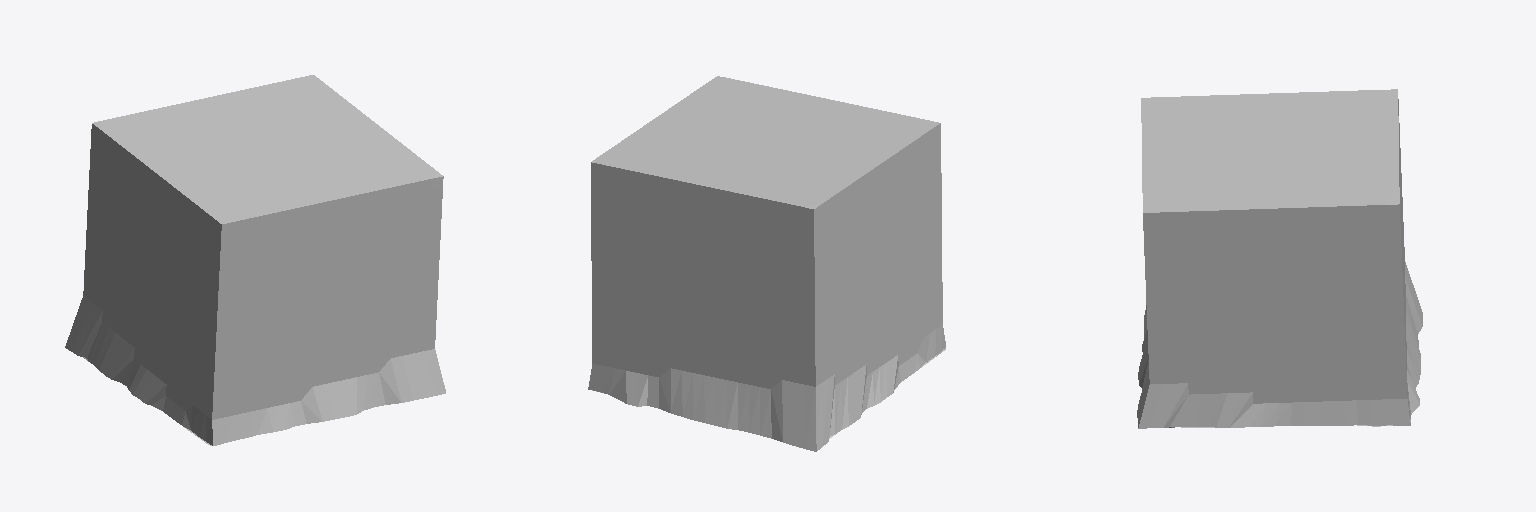
Rendered from mod0050.obj.
3 views of the same model, side by side, from view 1: azimuth 30°, elevation 25°; view 2: azimuth 150°, elevation 25°; view 3: azimuth 270°, elevation 25° (orthographic).
Parts seen in each view (by area): view 1: Box001; view 2: Box001; view 3: Box001.
Boxes of the visible parts, box(x1,y1,x2,y2) form: Box001: box(65, 75, 445, 445); Box001: box(588, 76, 945, 451); Box001: box(1137, 89, 1422, 428).
Bounding box in the file's own units: 0.5799 × 0.533 × 0.5979.